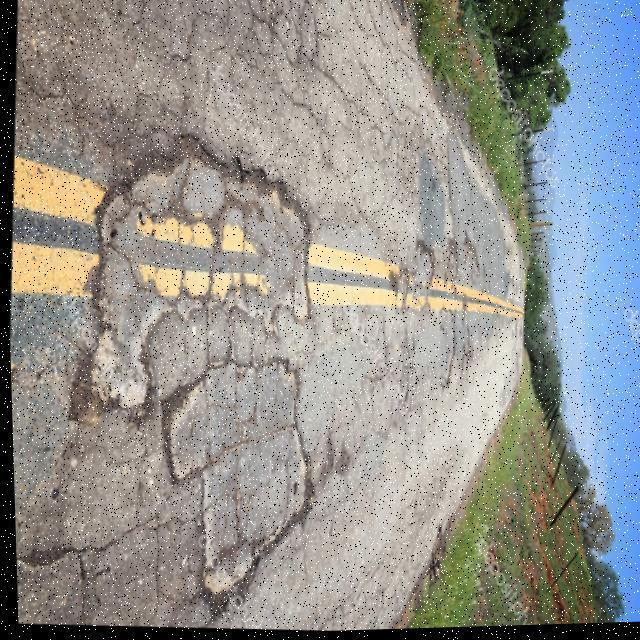Pothole: (66, 129, 315, 430), (157, 350, 321, 621), (386, 233, 438, 314)
